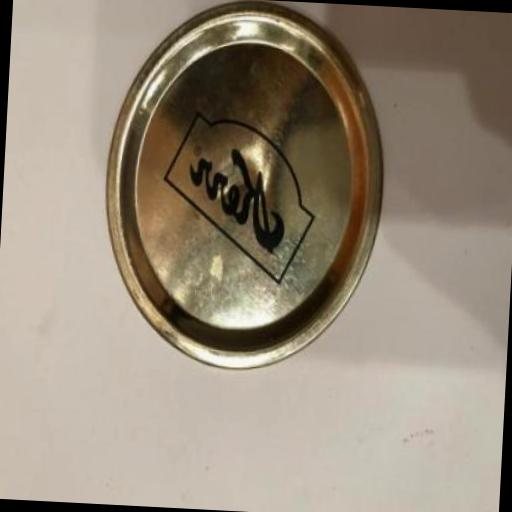metal: (95, 0, 392, 378)
